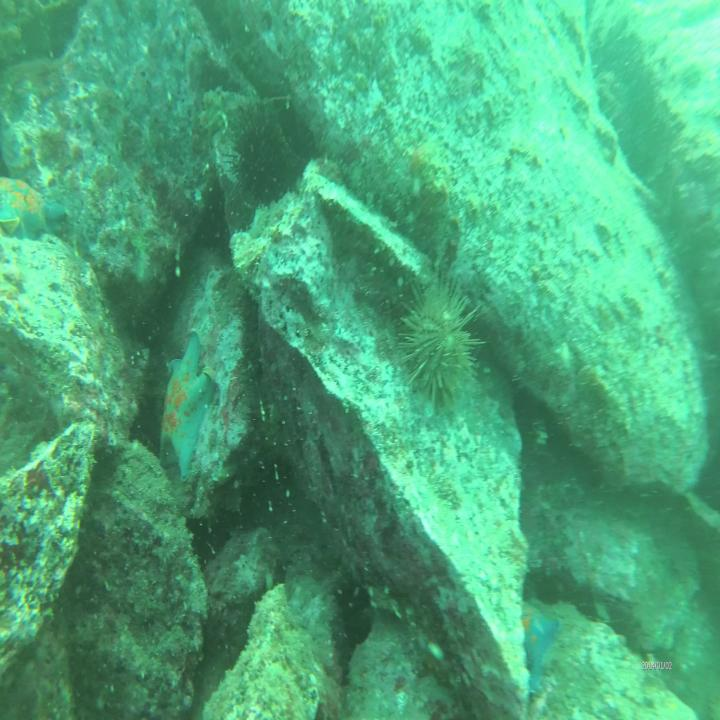echinus: (399, 268, 485, 424), (224, 119, 299, 227)
starfish: (161, 336, 225, 488), (0, 174, 70, 239), (520, 595, 560, 705)
